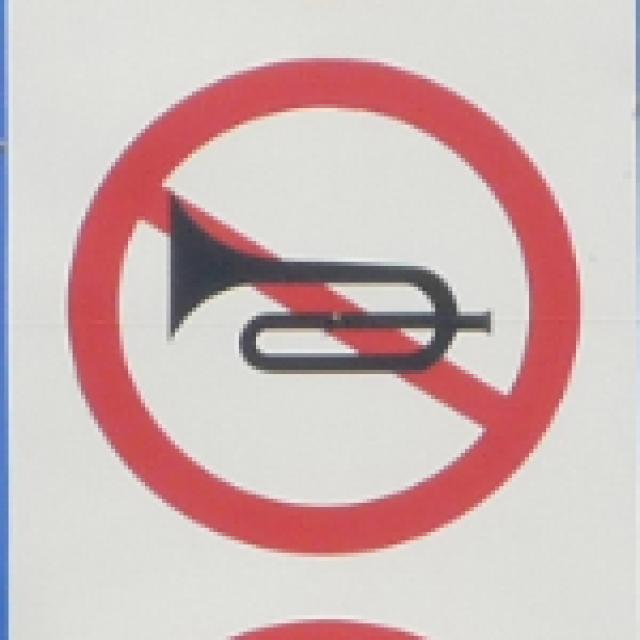No Horn: (70, 53, 586, 558)
